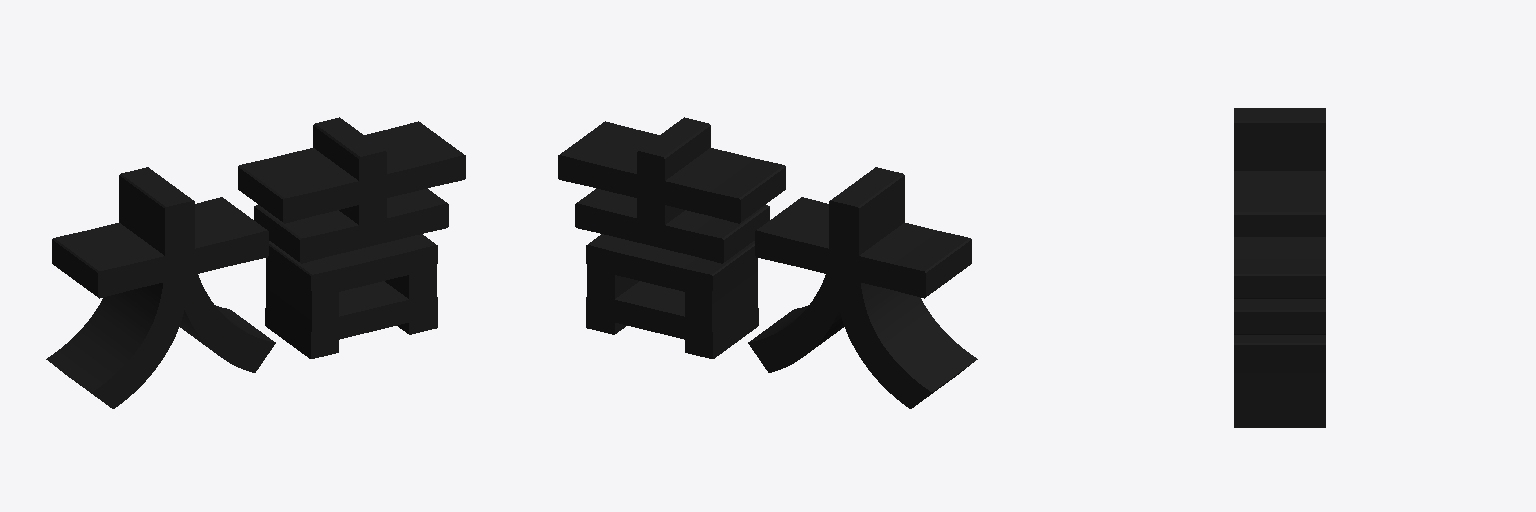
File: daikichi.obj
3 views of the same model, side by side, from view 1: azimuth 30°, elevation 25°; view 2: azimuth 150°, elevation 25°; view 3: azimuth 270°, elevation 25° (orthographic).
Parts seen in each view (by area): view 1: Curve.001; view 2: Curve.001; view 3: Curve.001.
Boxes of the visible parts, box(x1,y1,x2,y2) form: Curve.001: box(46, 117, 465, 408); Curve.001: box(558, 117, 977, 408); Curve.001: box(1234, 108, 1325, 427).
Size of the model in its own units: 0.3874 by 0.1896 by 0.0821.